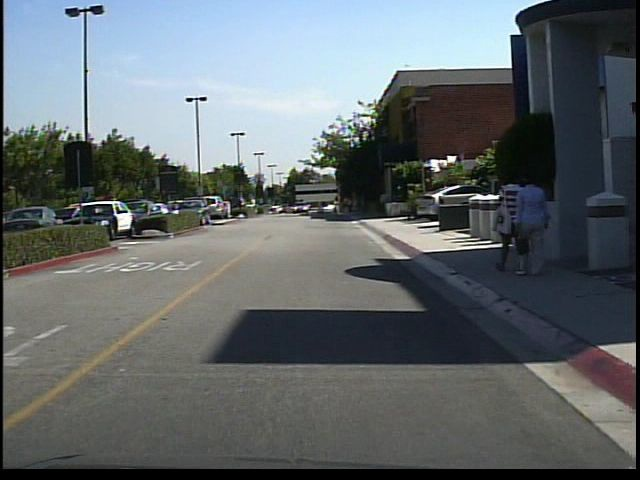person: (511, 170, 550, 278), (494, 165, 521, 278), (245, 192, 261, 220), (332, 195, 343, 220)
